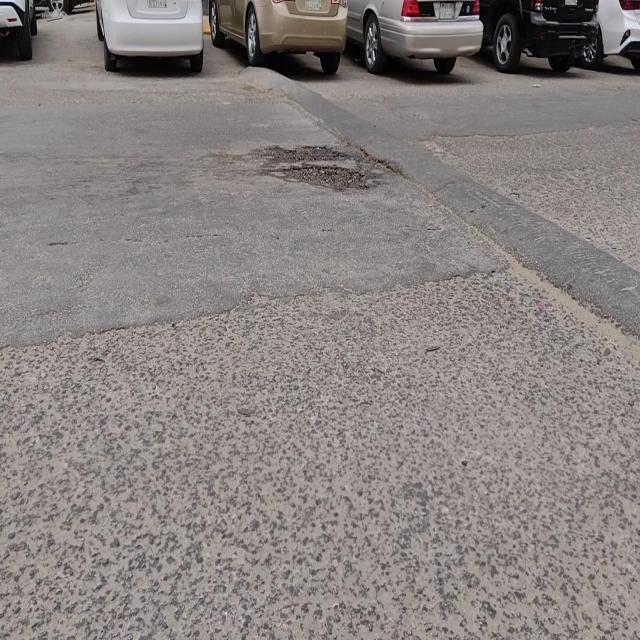Pothole: (273, 165, 366, 191), (267, 146, 346, 161)
Unmarked Bump: (241, 68, 640, 337)
